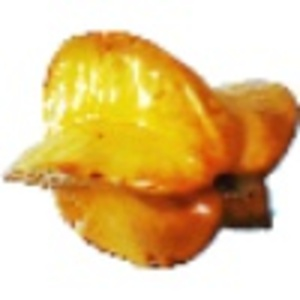carambola: (3, 29, 300, 272)
